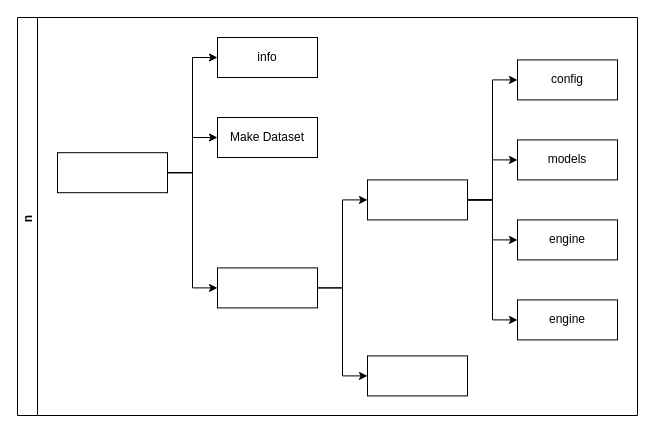
Some shapes in this 655 by 433 pixel diagram are drawn without their labels. Here are the shapes that lost their labels. From the top down, the centre of each, then its label:
point 112,172: SEARCH_ENGINE
point 417,199: app
point 267,287: SearchEngine
point 417,375: web
